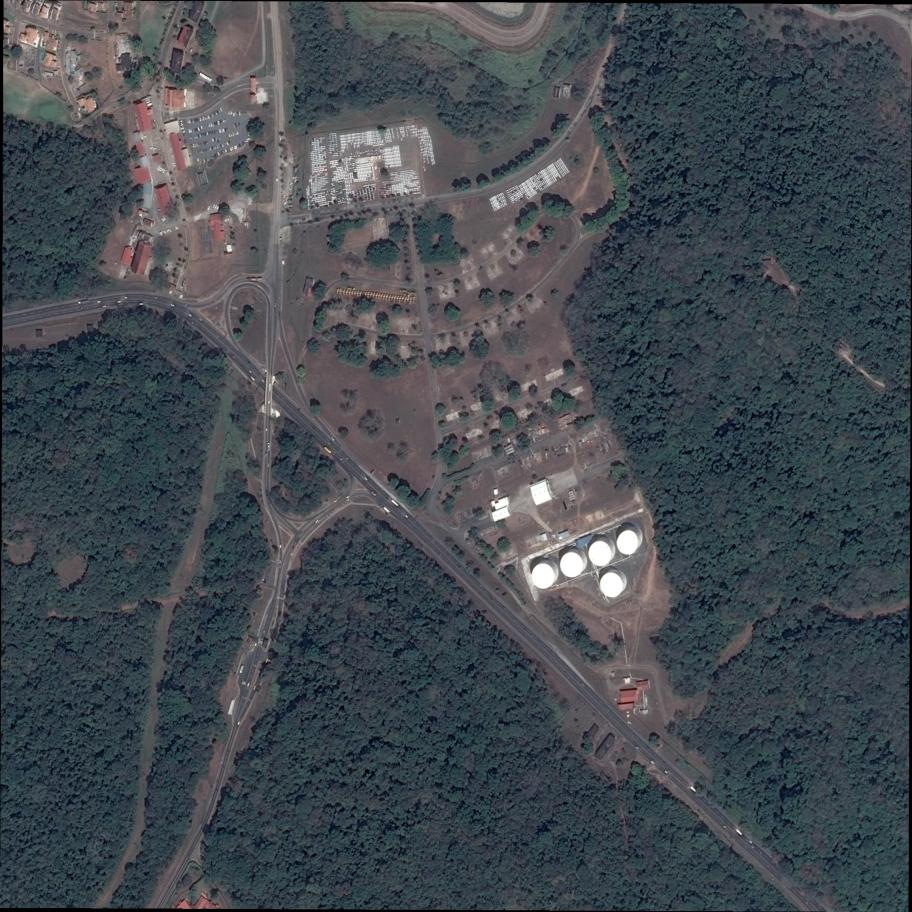large-vehicle: (323, 445, 333, 456), (390, 498, 400, 508), (382, 505, 391, 514), (735, 828, 743, 836), (690, 785, 697, 793), (78, 300, 89, 305), (239, 665, 244, 673)
small-vehicle: (250, 376, 255, 381), (371, 491, 376, 496), (289, 182, 294, 186), (405, 514, 409, 519), (314, 520, 319, 524), (364, 477, 368, 481), (346, 495, 350, 499), (217, 152, 220, 156), (200, 126, 203, 130), (230, 133, 233, 137), (190, 129, 193, 133), (194, 128, 197, 132), (235, 123, 238, 127), (233, 124, 236, 128), (192, 144, 195, 148), (188, 314, 192, 317), (220, 107, 222, 112), (206, 115, 208, 120), (280, 137, 282, 142), (223, 128, 225, 133), (117, 301, 122, 303), (206, 132, 209, 135), (215, 138, 218, 141), (171, 304, 174, 307), (225, 149, 227, 153), (189, 120, 191, 124), (218, 109, 220, 113), (208, 115, 210, 119), (203, 117, 205, 121), (200, 118, 202, 122), (198, 127, 200, 131), (212, 139, 214, 143), (218, 121, 220, 125), (247, 138, 251, 140), (232, 147, 234, 151), (230, 148, 232, 152), (189, 129, 191, 133), (219, 129, 221, 133), (203, 132, 205, 136), (194, 144, 196, 148), (193, 119, 195, 123), (196, 118, 198, 122), (216, 121, 218, 125), (242, 141, 244, 145), (222, 144, 224, 148), (196, 143, 198, 147), (228, 111, 230, 115), (230, 111, 232, 115), (233, 113, 235, 117), (197, 158, 199, 162), (200, 159, 202, 163), (124, 297, 128, 299), (239, 111, 241, 115), (237, 132, 239, 135), (209, 124, 211, 127), (235, 132, 237, 135), (229, 134, 231, 137), (234, 146, 236, 149), (207, 158, 209, 161), (239, 144, 241, 147), (238, 123, 240, 126), (212, 147, 214, 150), (233, 133, 234, 137), (211, 123, 212, 127), (245, 141, 249, 142), (213, 123, 214, 127), (215, 122, 216, 126), (200, 133, 201, 137), (201, 133, 202, 137), (140, 304, 144, 305), (236, 145, 237, 148)
storage-tank: (615, 524, 644, 557), (559, 548, 588, 579), (588, 537, 616, 568), (531, 560, 559, 591), (599, 570, 628, 599)
